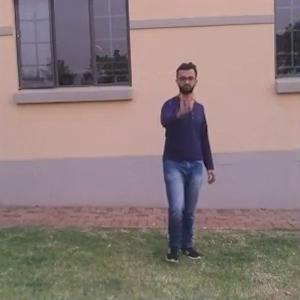takeoff-hand: (168, 88, 198, 121)
